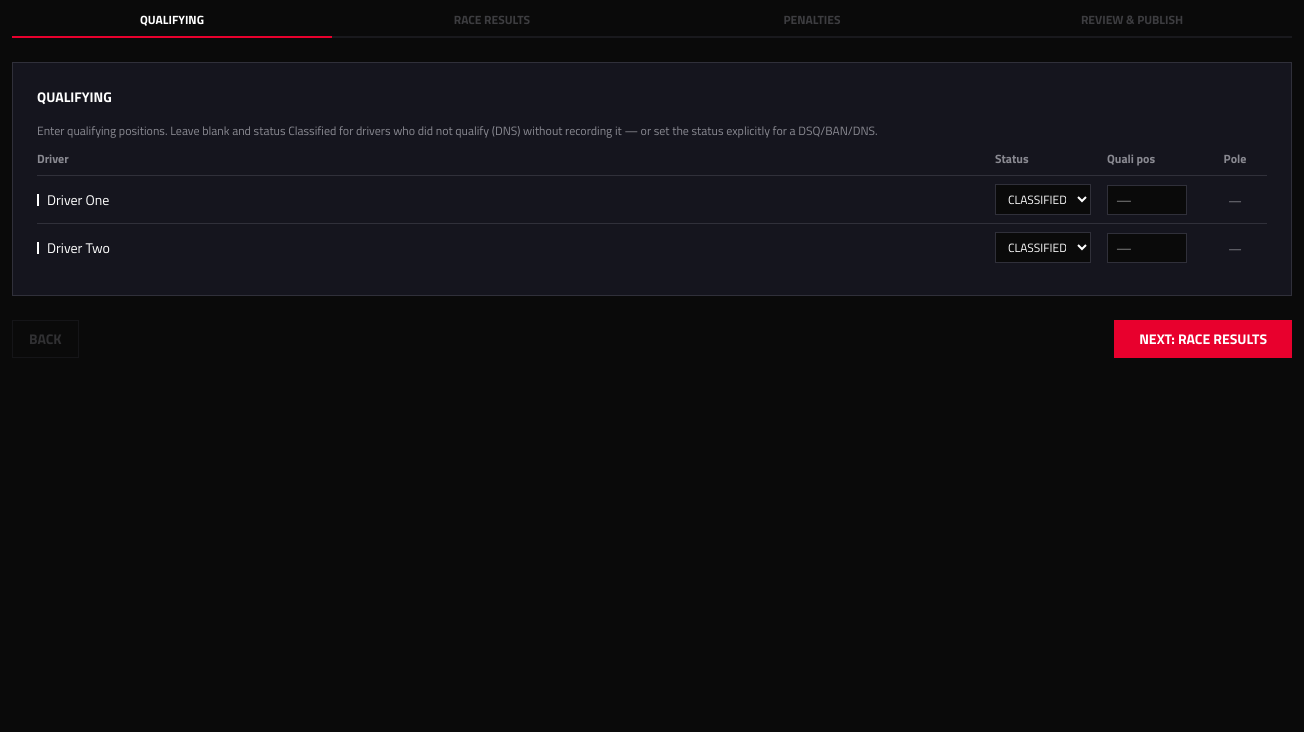
Test: ResultStepper full publish flow › blocks publish while validation errors exist
Click the button "Next: Race Results". click: [1203, 339]
box: [1114, 320, 1292, 358]
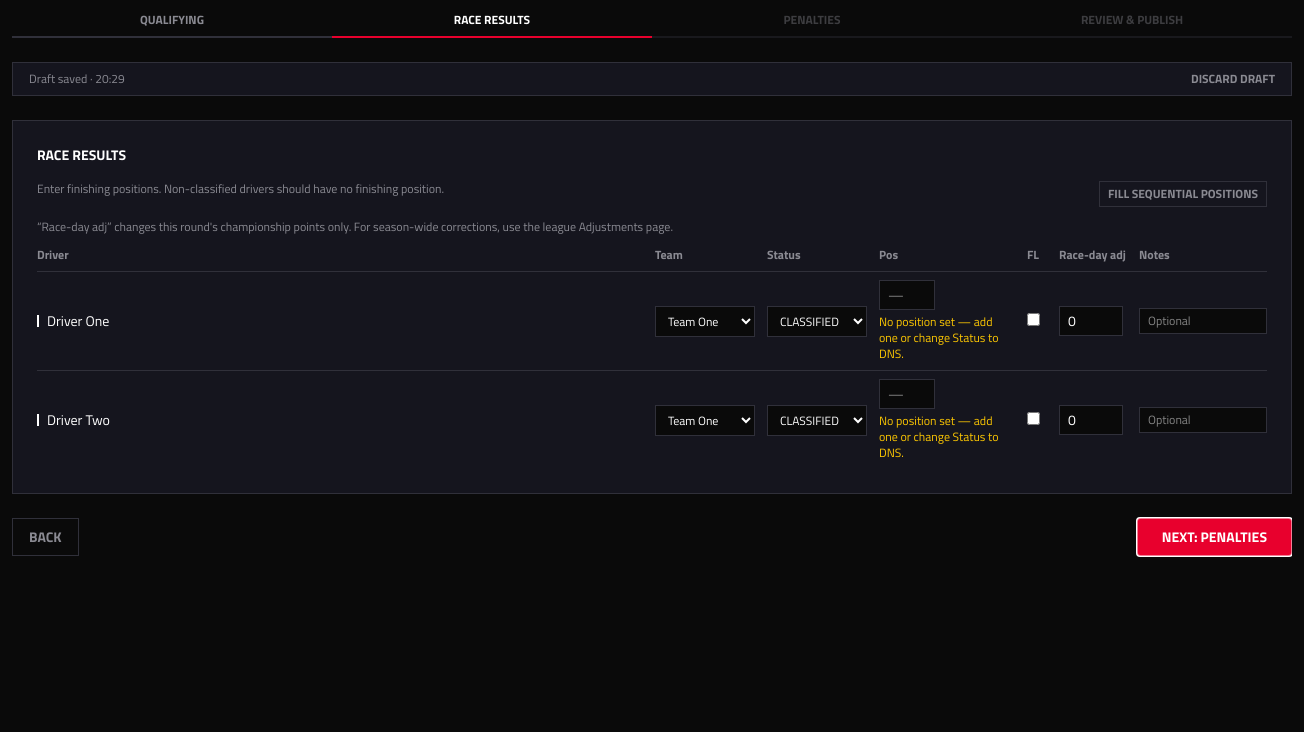
// Duplicate finishing positions
Type "1" into the 1st number field with placeholder "—". click: [907, 295]
box: [879, 280, 935, 310]
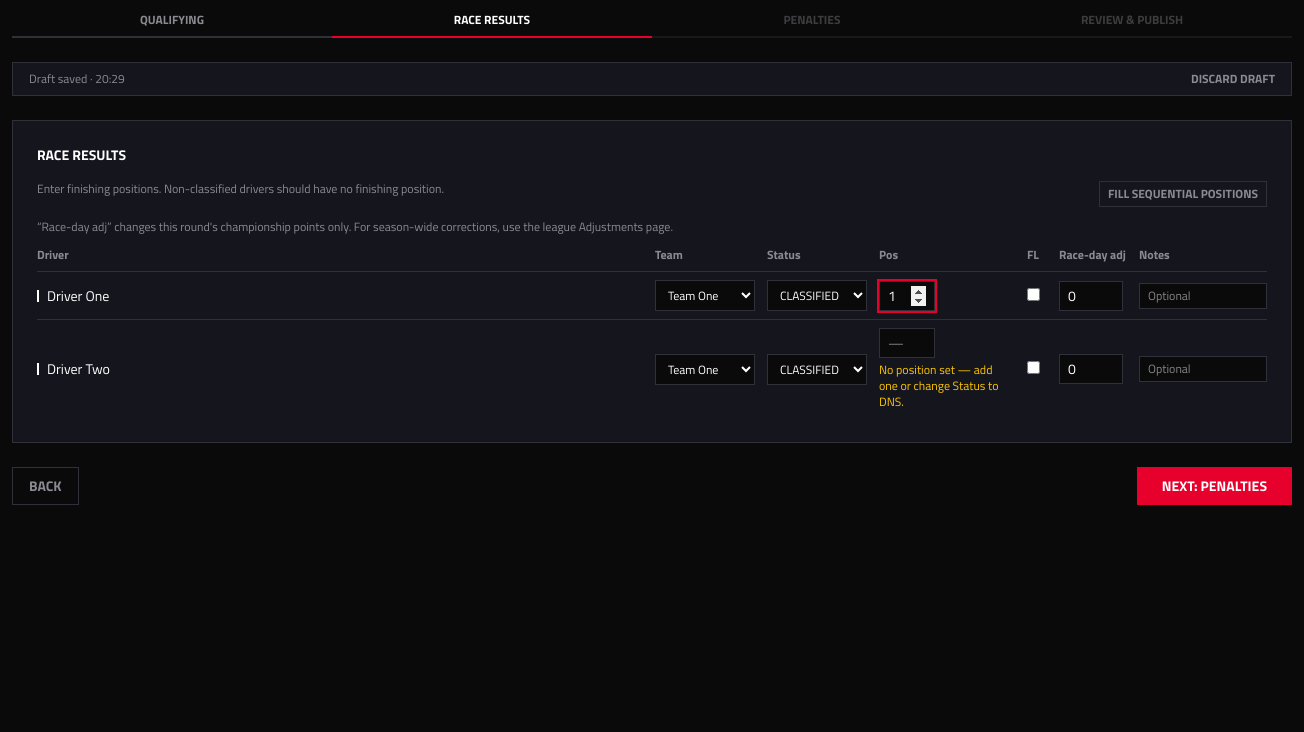
Type "1" into the number field with placeholder "—". click: [907, 343]
box: [879, 328, 935, 358]
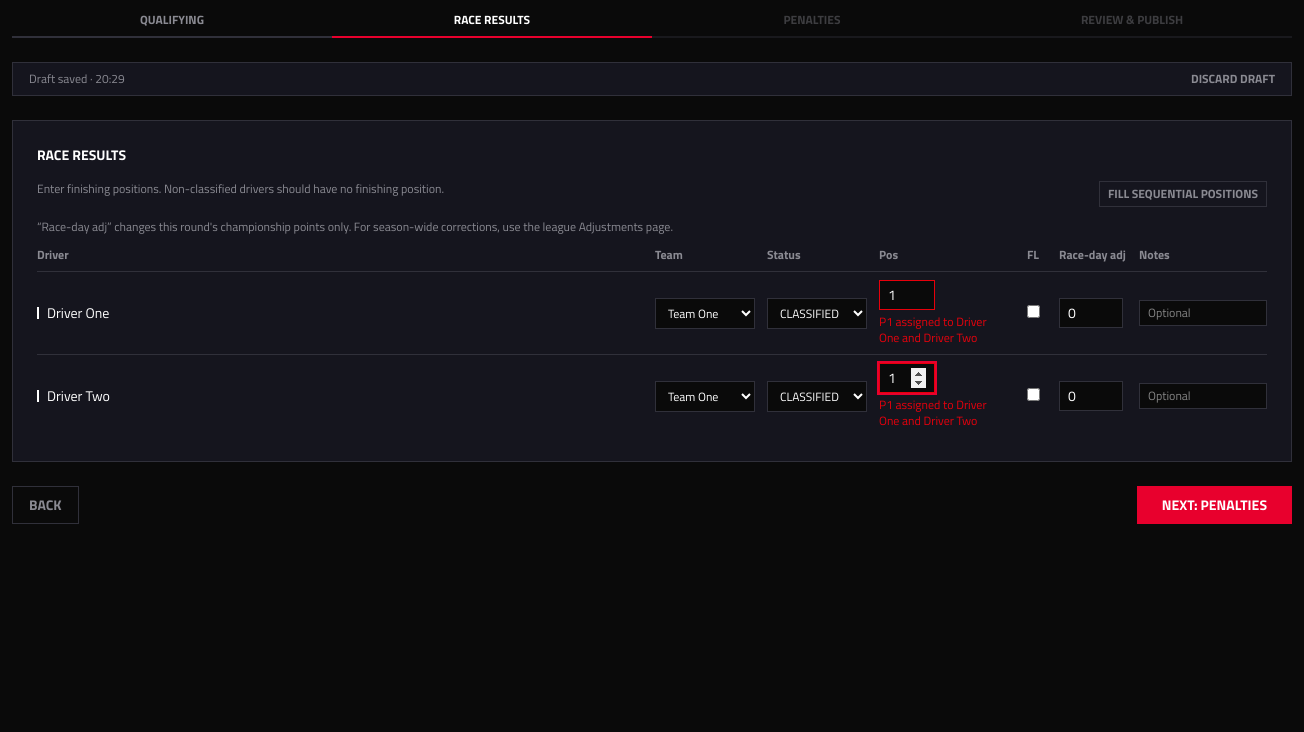
Click the button "Next: Penalties". click: [1214, 505]
box: [1137, 486, 1292, 524]
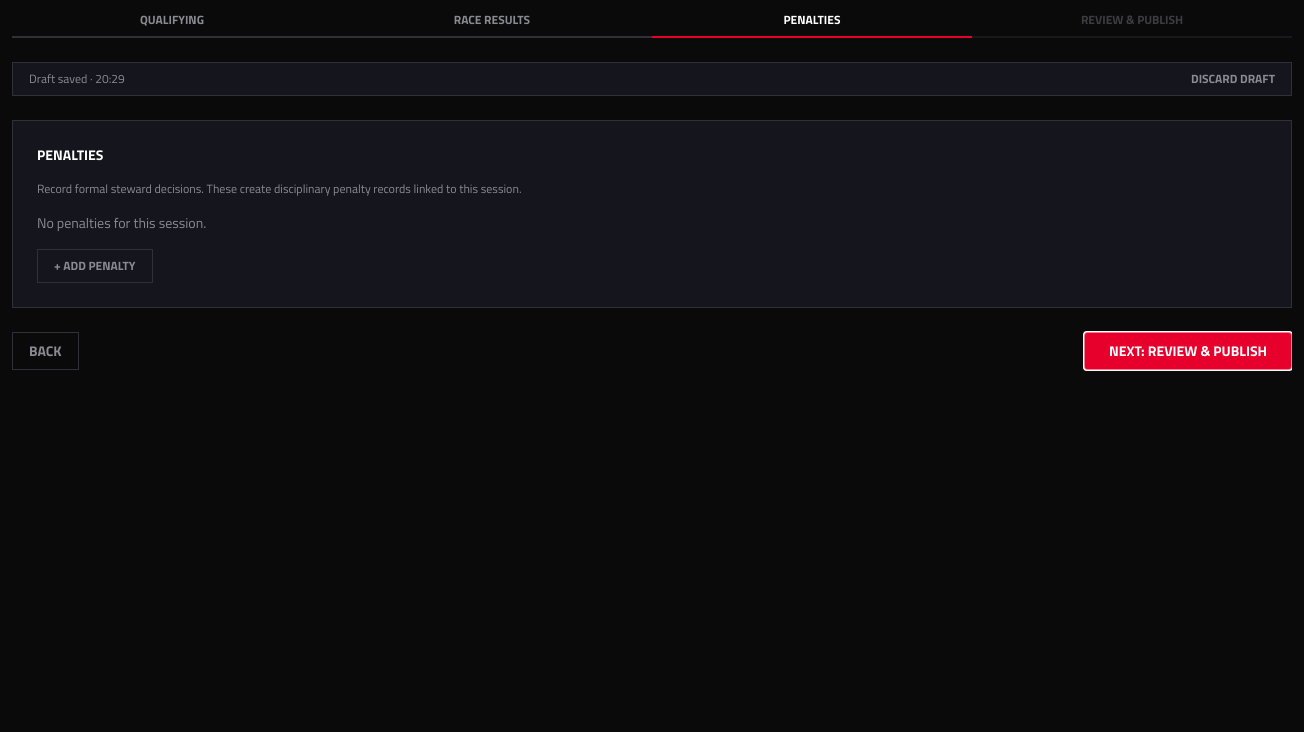
Click the button "Next: Review & Publish". click: [1188, 351]
box: [1084, 332, 1292, 370]
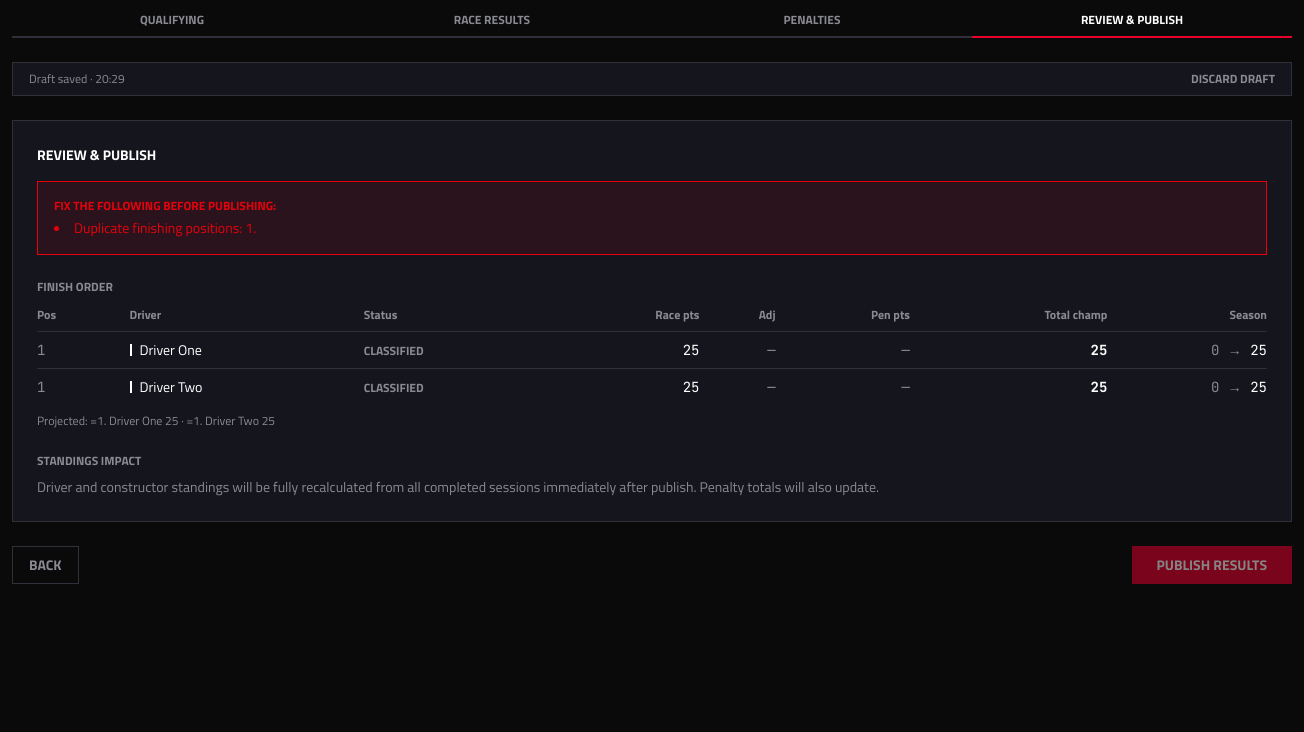
Check: the list item "Duplicate finishing positions: 1." is shown, box [74, 217, 256, 238]
Check: the button "Publish Results" is disabled, box [1132, 546, 1292, 584]
